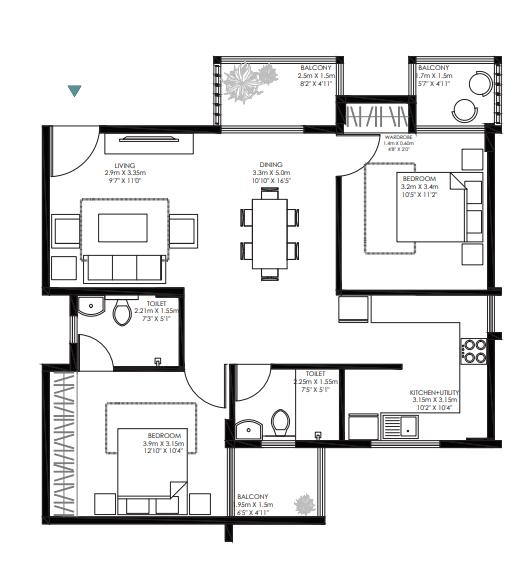Balcony: (220, 61, 341, 127), (232, 448, 322, 523), (416, 63, 496, 123)
Bed: (396, 169, 487, 244), (120, 428, 188, 515)
Bedroom: (341, 137, 486, 293), (79, 370, 229, 518)
Dining Room: (211, 134, 339, 314)
Dining table: (229, 180, 308, 284)
Kitchen: (341, 294, 491, 440)
Living Room: (54, 131, 209, 292)
Sofa: (83, 255, 166, 285), (163, 213, 200, 248), (52, 212, 85, 247)
Wardrobe: (49, 374, 76, 516), (347, 107, 407, 133)
commode: (113, 300, 131, 328), (270, 411, 289, 437)
door: (50, 128, 100, 177), (337, 133, 380, 183), (188, 369, 229, 406), (230, 367, 273, 400), (78, 332, 113, 365)
sink: (381, 415, 420, 441), (79, 299, 106, 316), (237, 424, 261, 443)
stove: (460, 337, 487, 365)
toilet: (240, 365, 339, 442), (78, 298, 178, 374)
tv: (103, 131, 193, 157)
utility: (346, 372, 422, 442)
